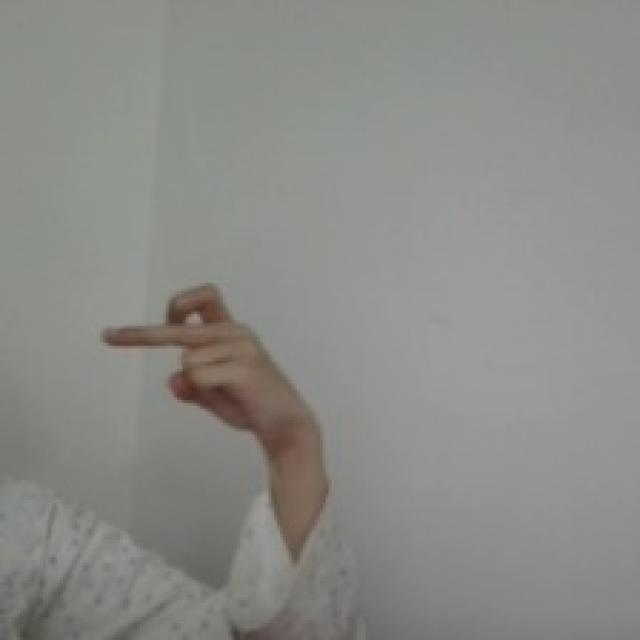sunday: (98, 277, 304, 441)
